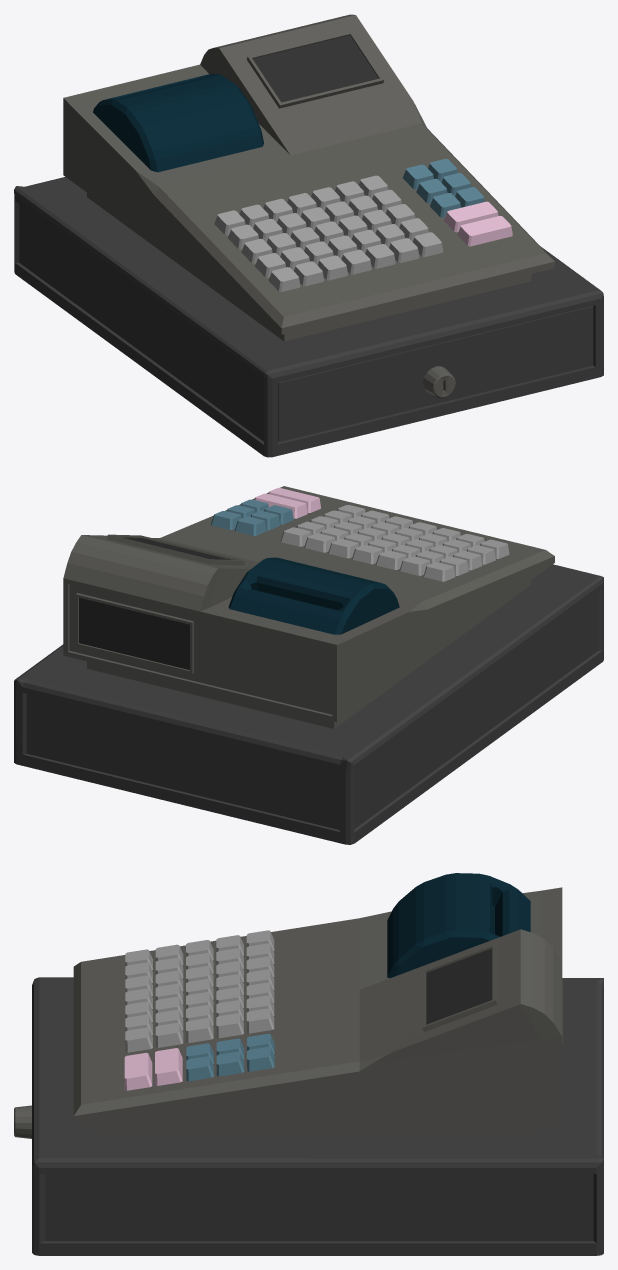
File: Caisse.fbx
The picture shows the model from 3 angles, top to bottom: view 1: azimuth 30°, elevation 25°; view 2: azimuth 150°, elevation 25°; view 3: azimuth 270°, elevation 25°; orthographic projection. The views are drawn at different scales.
Parts seen in each view (by area): view 1: Caisse; view 2: Caisse; view 3: Caisse.
Boxes of the visible parts, box(x1,y1,x2,y2) form: Caisse: box(14, 14, 603, 457); Caisse: box(14, 486, 603, 844); Caisse: box(14, 873, 603, 1255).
Size of the model in its own units: 60.53 by 35.62 by 81.33.
